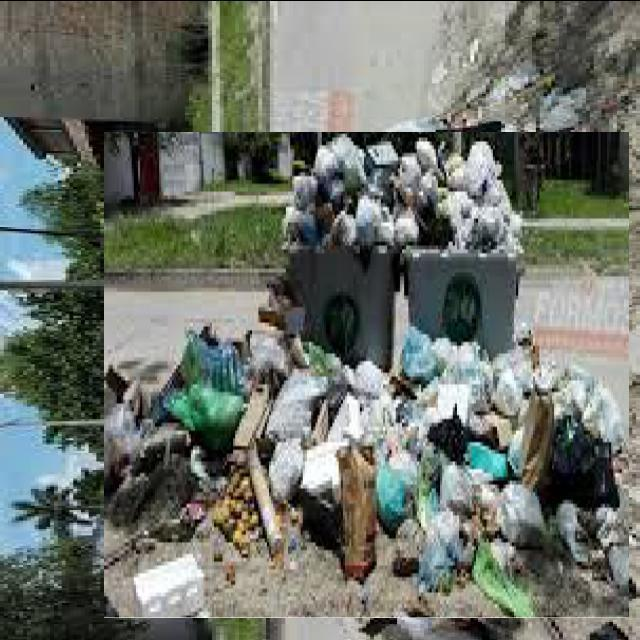Trashbag: (545, 424, 619, 503)
